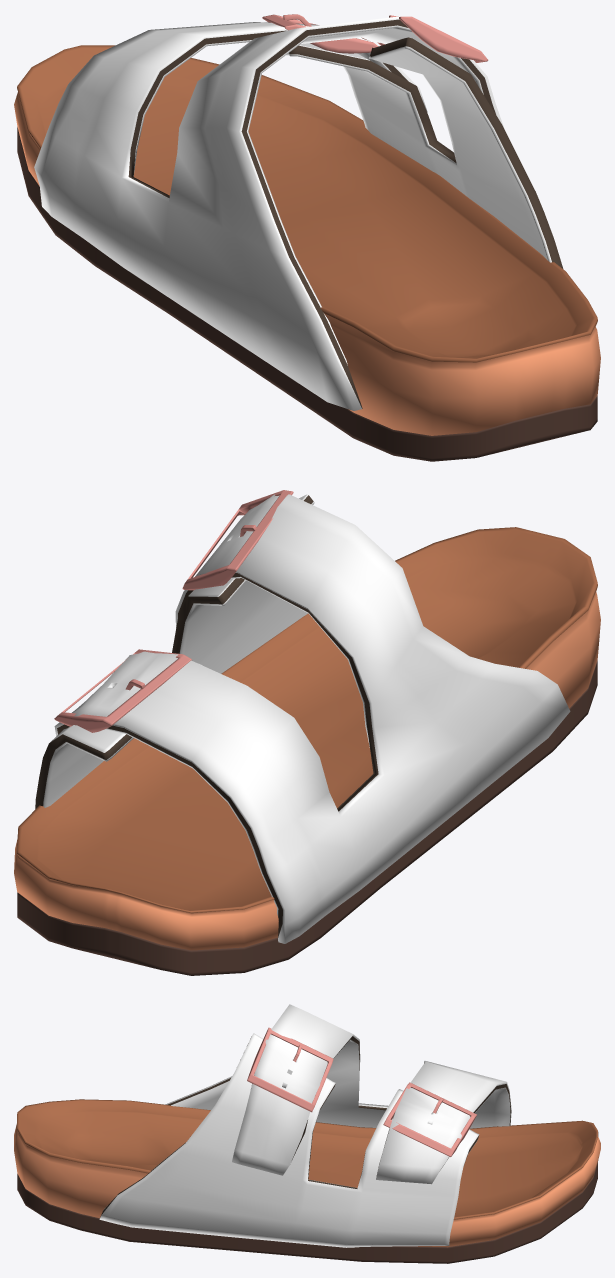
Rendered from Sandals.glb.
3 views of the same model, one above another, from view 1: azimuth 30°, elevation 25°; view 2: azimuth 150°, elevation 25°; view 3: azimuth 270°, elevation 25° (orthographic). The views are drawn at different scales.
Parts seen in each view (by area): view 1: Plane.003, Plane.007, Plane.008, Plane.002, Plane.010, Plane.017, Plane.009; view 2: Plane.007, Plane.003, Plane.002, Plane.008, Plane.010, Plane.016, Plane.009; view 3: Plane.003, Plane.008, Plane.007, Plane.002, Plane.010, Plane.016, Plane.009.
Part boxes in pixels (left/top/right/bottom): Plane.003: left=14, top=45, right=600, bottom=435; Plane.007: left=34, top=16, right=504, bottom=410; Plane.008: left=286, top=37, right=563, bottom=268; Plane.002: left=17, top=127, right=597, bottom=461; Plane.010: left=381, top=16, right=487, bottom=61; Plane.017: left=377, top=16, right=487, bottom=62; Plane.009: left=262, top=15, right=378, bottom=53; Plane.007: left=54, top=494, right=570, bottom=943; Plane.003: left=14, top=527, right=600, bottom=950; Plane.002: left=17, top=660, right=597, bottom=975; Plane.008: left=35, top=494, right=314, bottom=808; Plane.010: left=182, top=490, right=292, bottom=590; Plane.016: left=54, top=649, right=191, bottom=732; Plane.009: left=59, top=652, right=191, bottom=731; Plane.003: left=14, top=1099, right=600, bottom=1247; Plane.008: left=99, top=1033, right=479, bottom=1247; Plane.007: left=165, top=1004, right=511, bottom=1184; Plane.002: left=17, top=1162, right=597, bottom=1263; Plane.010: left=247, top=1027, right=333, bottom=1112; Plane.016: left=383, top=1083, right=476, bottom=1156; Plane.009: left=383, top=1082, right=476, bottom=1156.
Bounding box in the file's own units: 0.2089 × 0.2037 × 0.5409.
